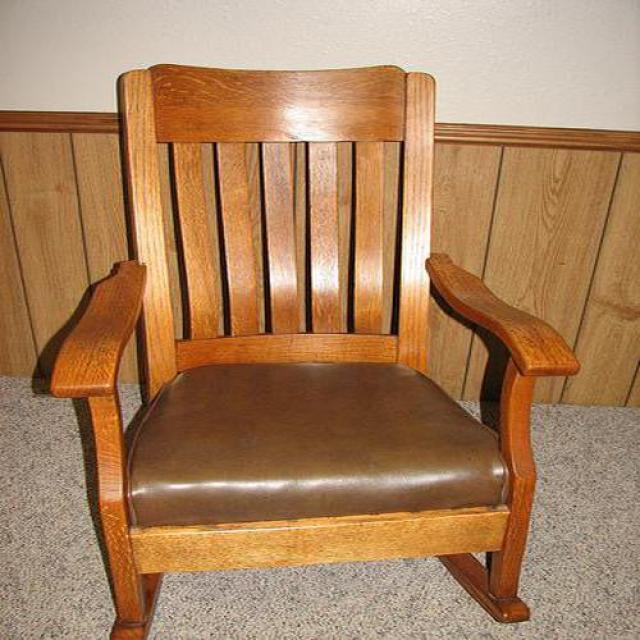chair: (32, 64, 580, 640)
